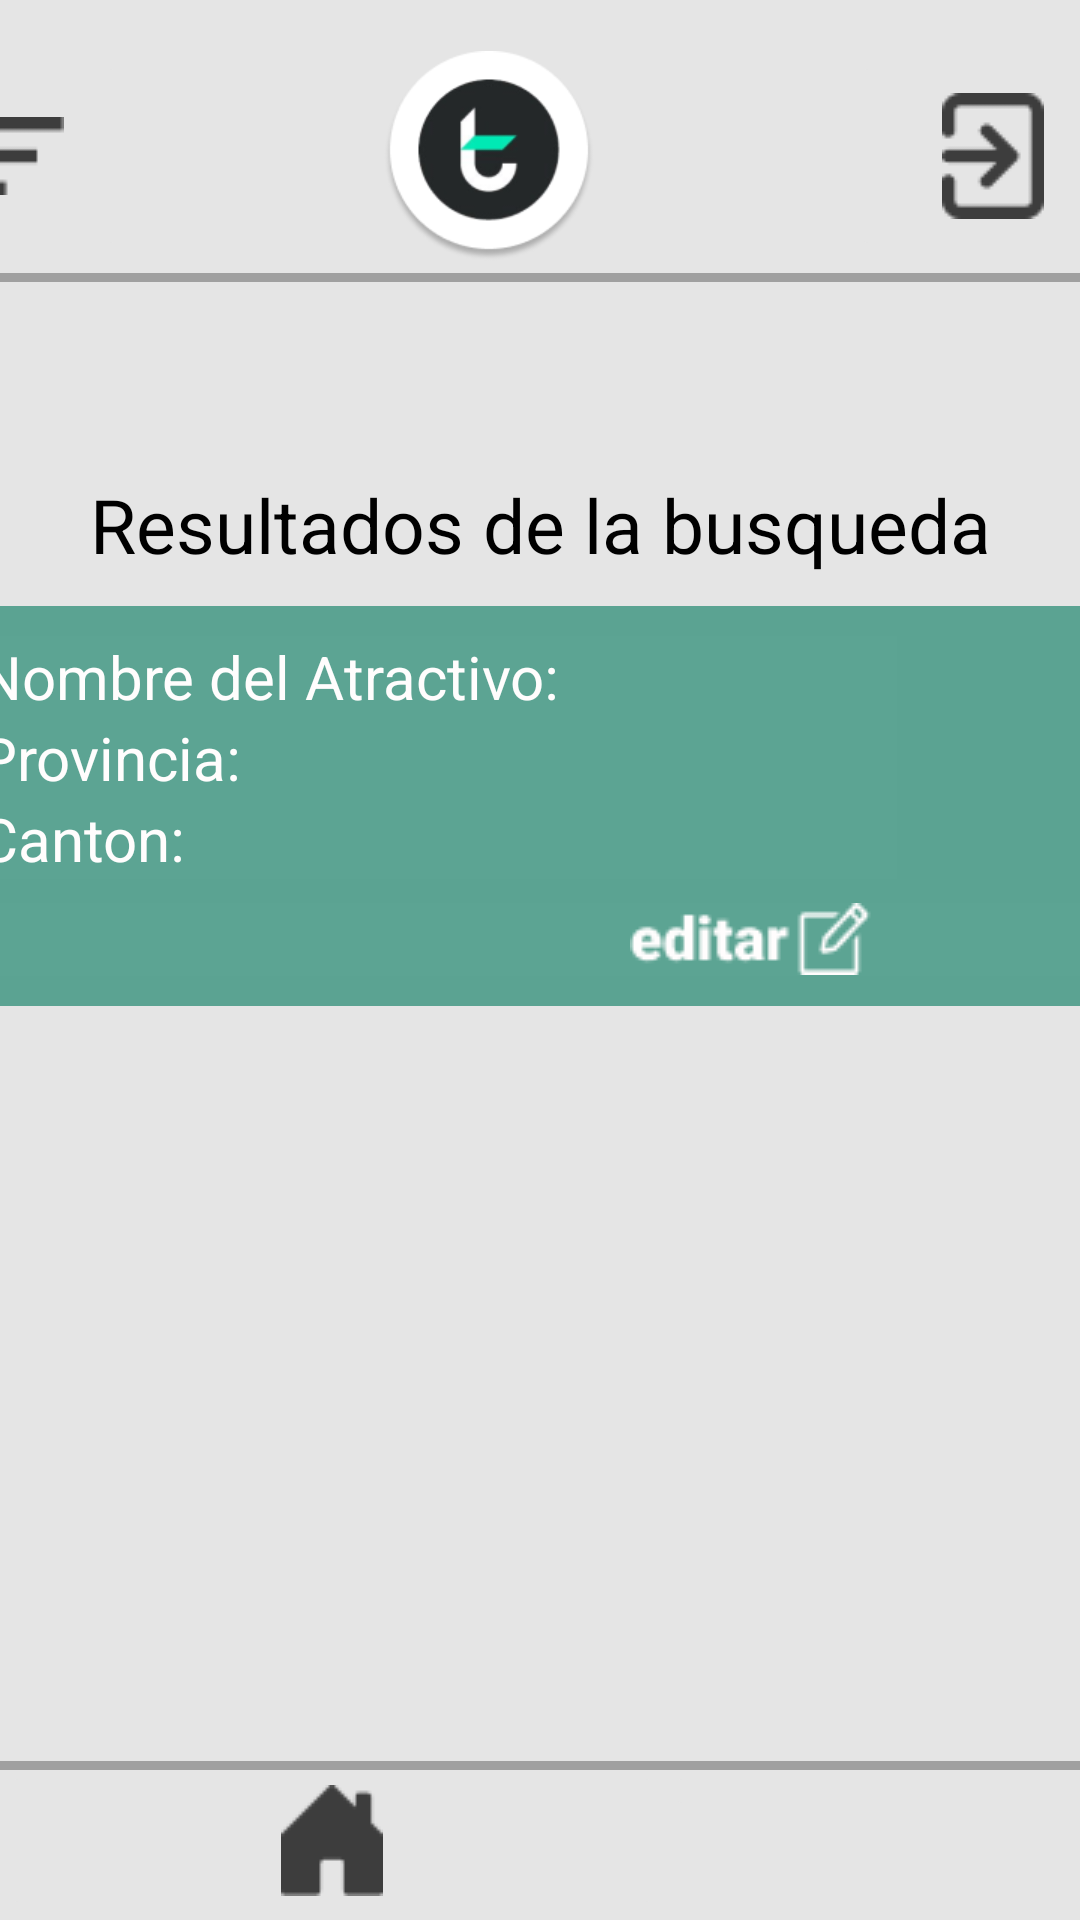

Icons on this 1080px×1920px Android screen, each with its box as (x1, y1, x2, y2):
casa: (281, 1785, 383, 1896)
